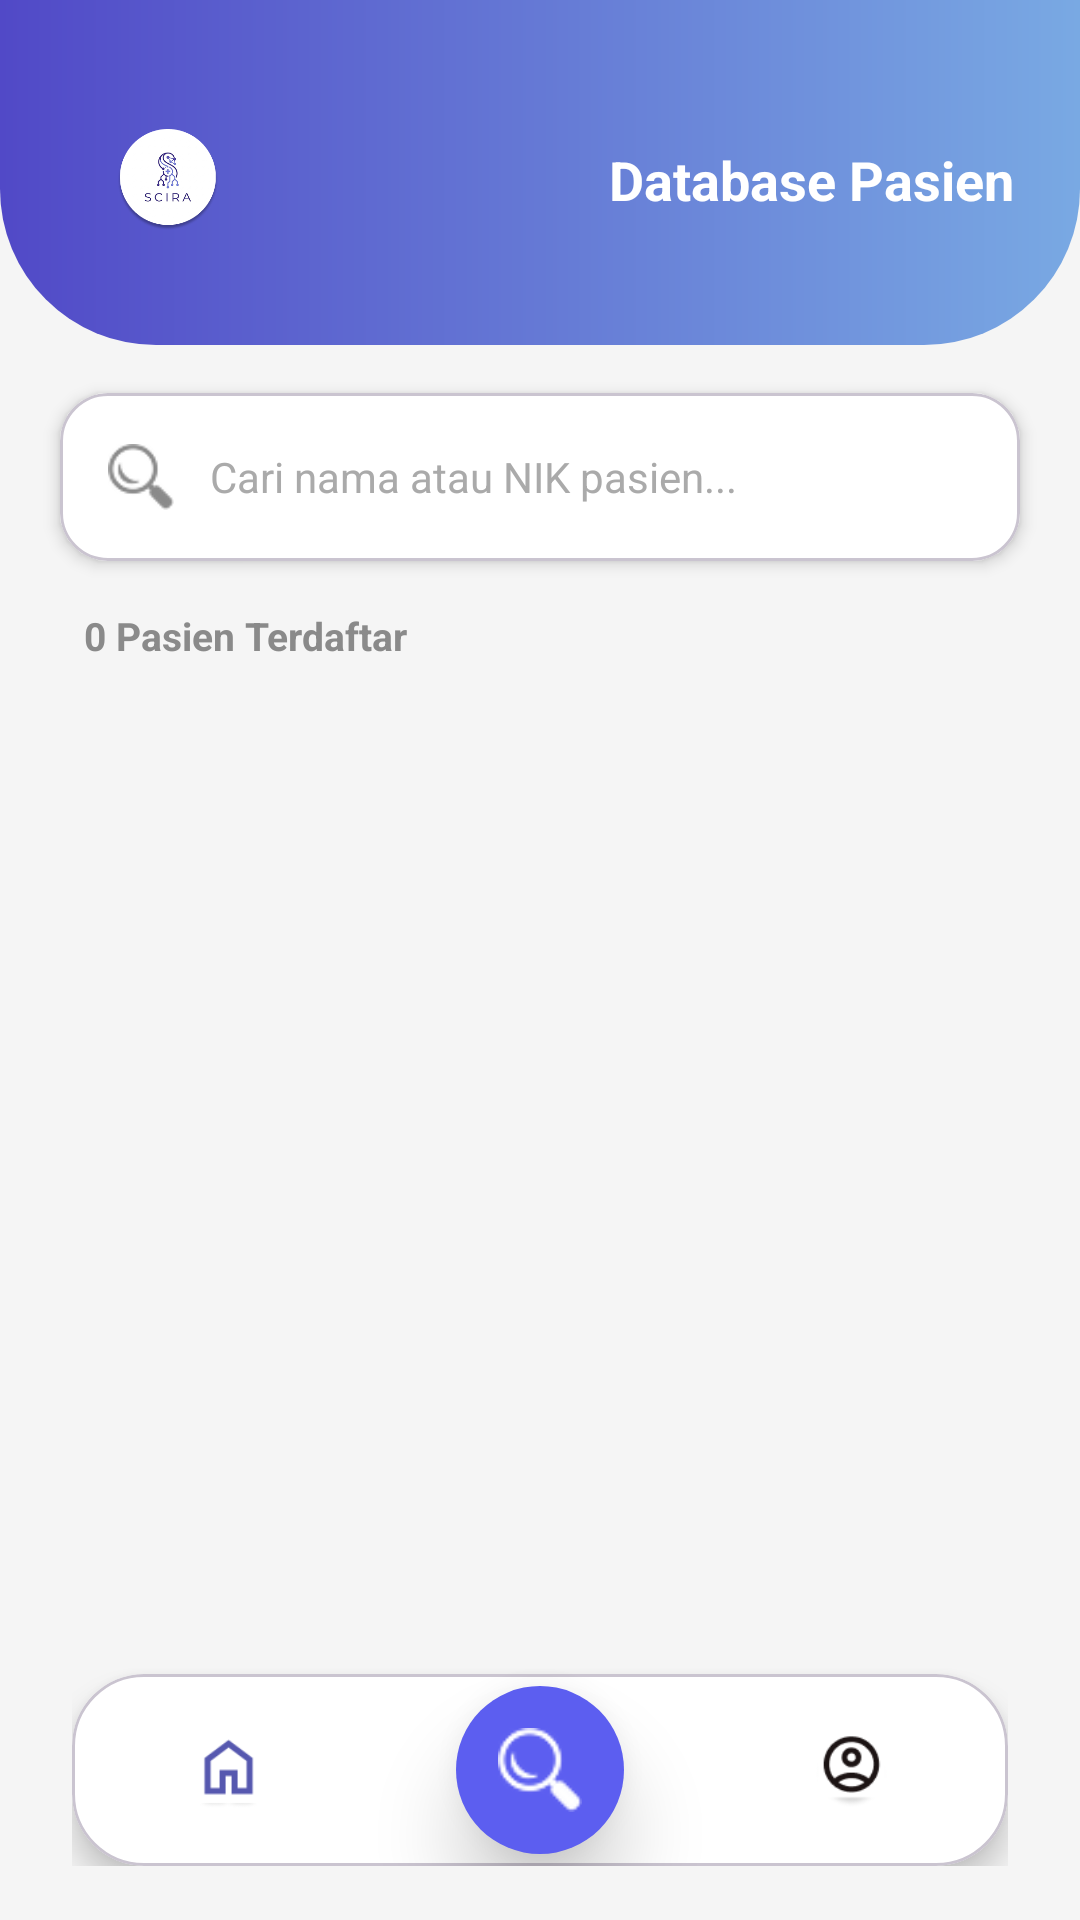

Locate icon controls on the screen. Image size 1080px x 1920px, boxes as (x1, y1, x2, y2).
Home: (204, 1740, 253, 1795)
Profile: (823, 1736, 880, 1801)
